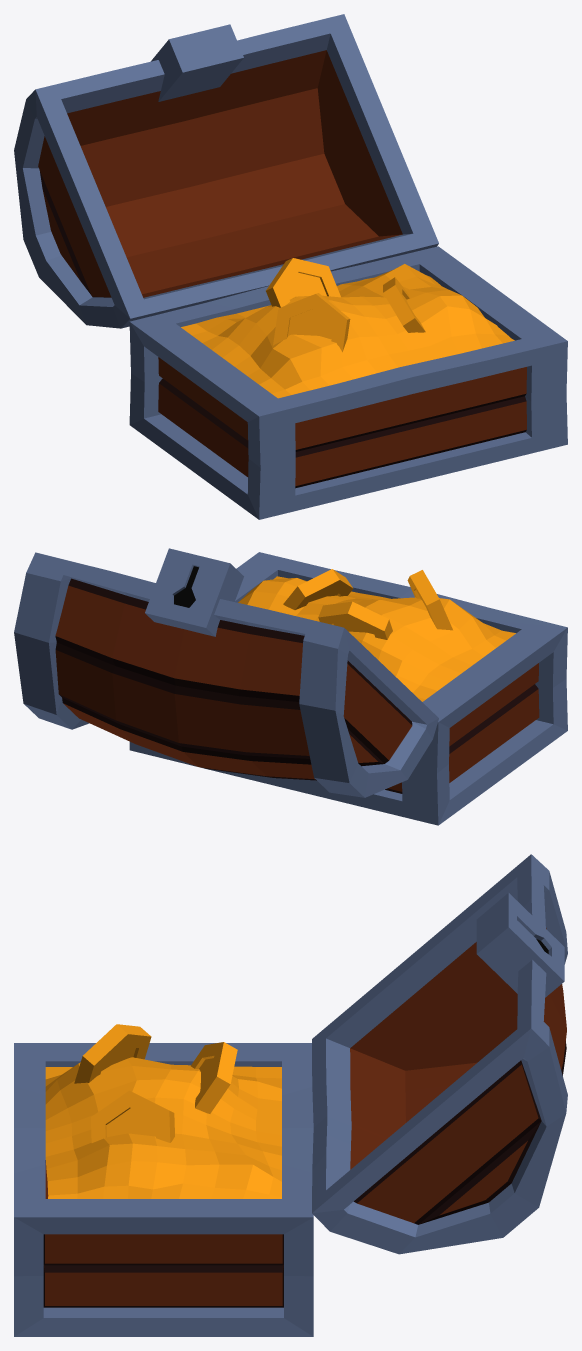
Rendered from openchest.obj.
3 renders of one model, top to bottom at view 1: azimuth 30°, elevation 25°; view 2: azimuth 150°, elevation 25°; view 3: azimuth 270°, elevation 25°, orthographic. The views are drawn at different scales.
Parts seen in each view (by area): view 1: chest_top, chest_bottom, chest's_gold; view 2: chest_top, chest_bottom, chest's_gold; view 3: chest_top, chest_bottom, chest's_gold.
Boxes of the visible parts, <box> form: chest_top: <box>14,14,438,328</box>; chest_bottom: <box>129,246,567,519</box>; chest's_gold: <box>181,258,514,398</box>; chest_top: <box>14,548,438,797</box>; chest_bottom: <box>129,552,567,825</box>; chest's_gold: <box>238,569,515,701</box>; chest_top: <box>312,854,567,1254</box>; chest_bottom: <box>14,1043,313,1336</box>; chest's_gold: <box>45,1024,281,1198</box>.
Size of the model in its own units: 1.35 by 1.17 by 1.72.
